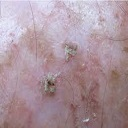Actinic: (77, 80, 104, 114), (36, 71, 62, 100), (59, 38, 82, 62)
